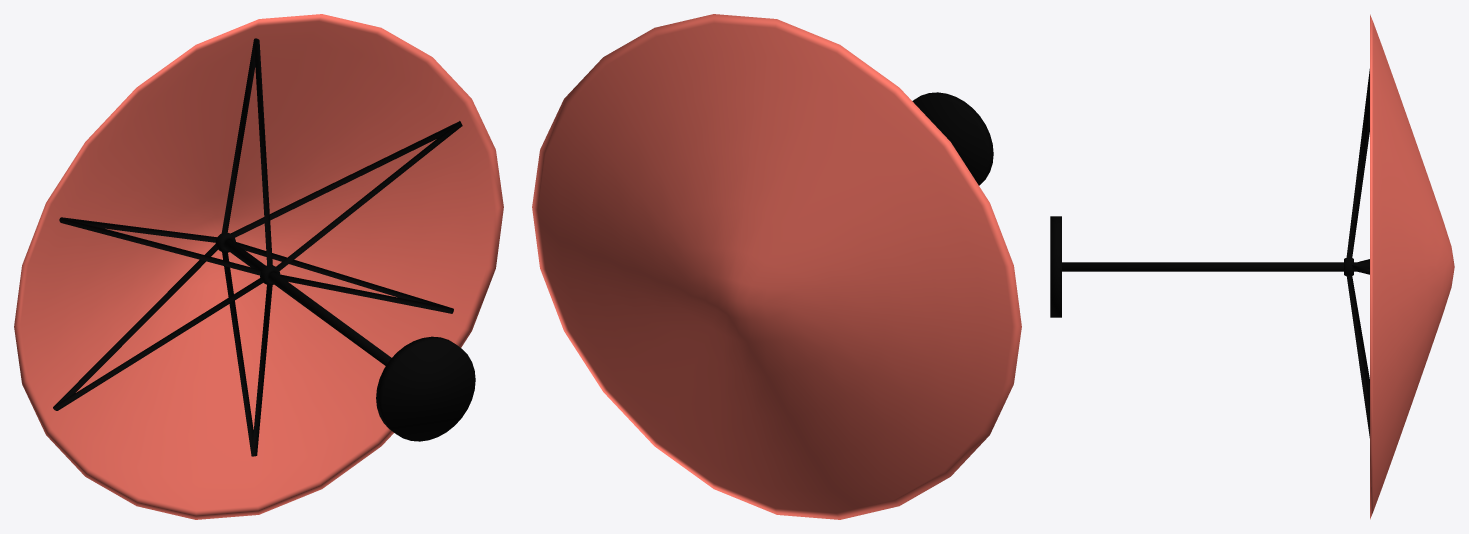
Rendered from Parasol_red.fbx.
The picture shows the model from 3 angles, left to right: view 1: azimuth 30°, elevation 25°; view 2: azimuth 150°, elevation 25°; view 3: azimuth 270°, elevation 25°; orthographic projection. The views are drawn at different scales.
Parts seen in each view (by area): view 1: Torus.001; view 2: Torus.001; view 3: Torus.001.
Boxes of the visible parts, x1,y1,x2,y2 form: Torus.001: [14, 14, 503, 519]; Torus.001: [532, 14, 1021, 519]; Torus.001: [1050, 14, 1454, 519].
Bounding box in the file's own units: 1110 × 1074 × 844.
